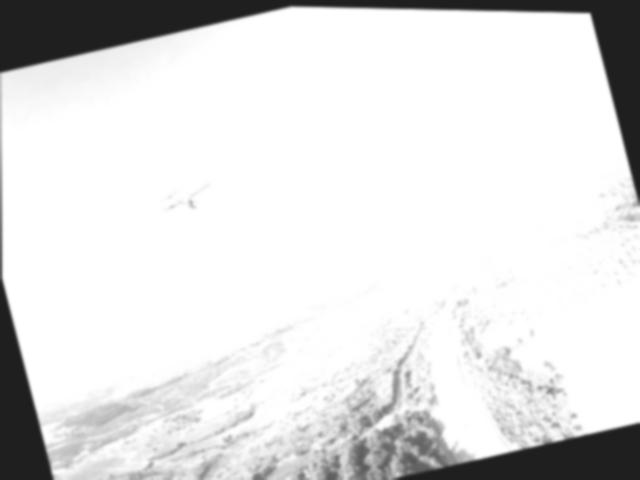hedef: (121, 152, 242, 234)
